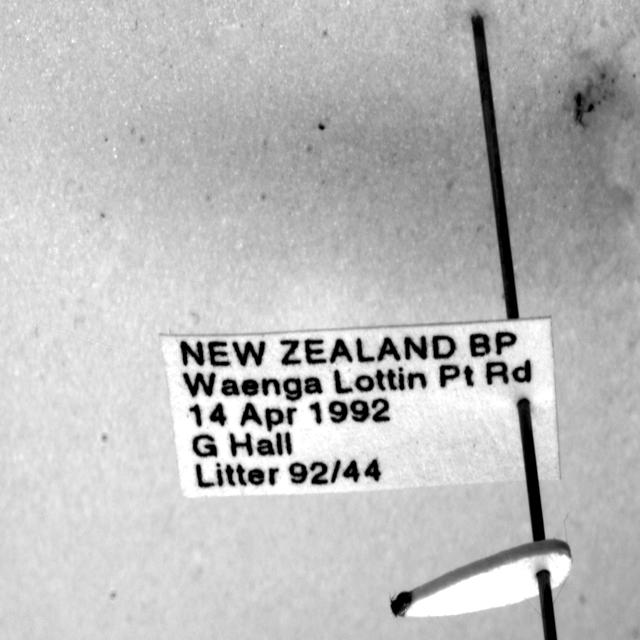typed_label: (161, 319, 560, 497)
